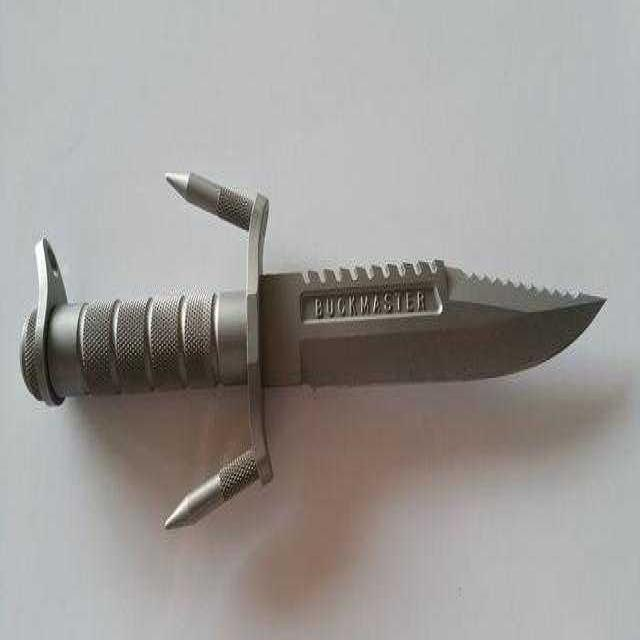Knife: (19, 159, 609, 537)
